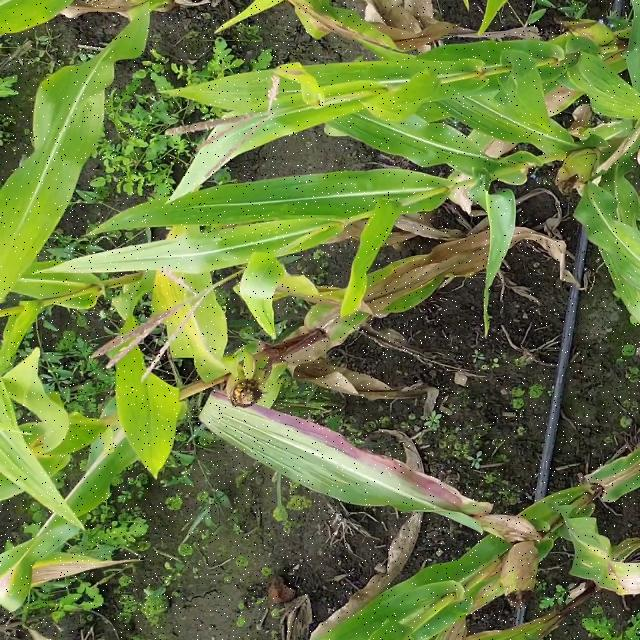northern-leaf-blight: (207, 385, 486, 528), (132, 208, 203, 363), (0, 543, 118, 619), (294, 2, 404, 72)
southern-leaf-blight: (131, 164, 392, 243)
